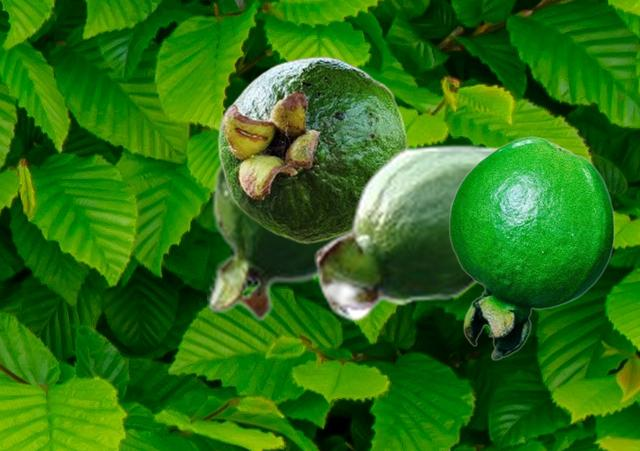guava: (448, 136, 614, 359), (217, 56, 407, 243), (314, 143, 503, 321), (207, 158, 325, 322)
